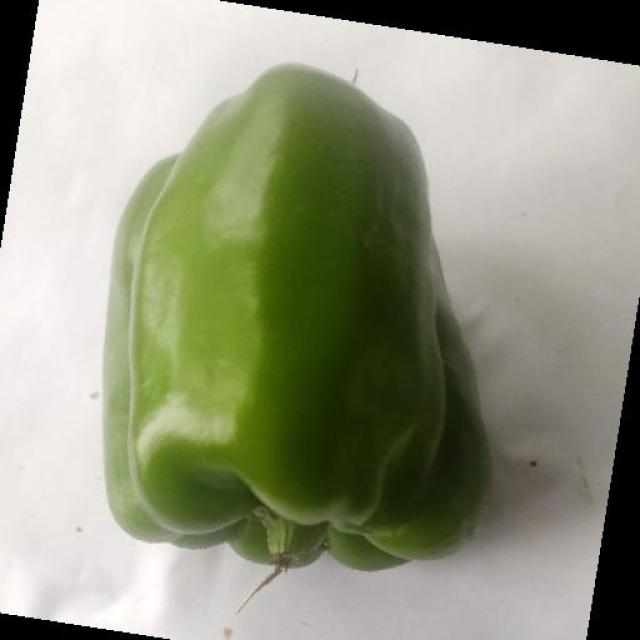Fresh_Capsicum: (147, 138, 441, 484)
